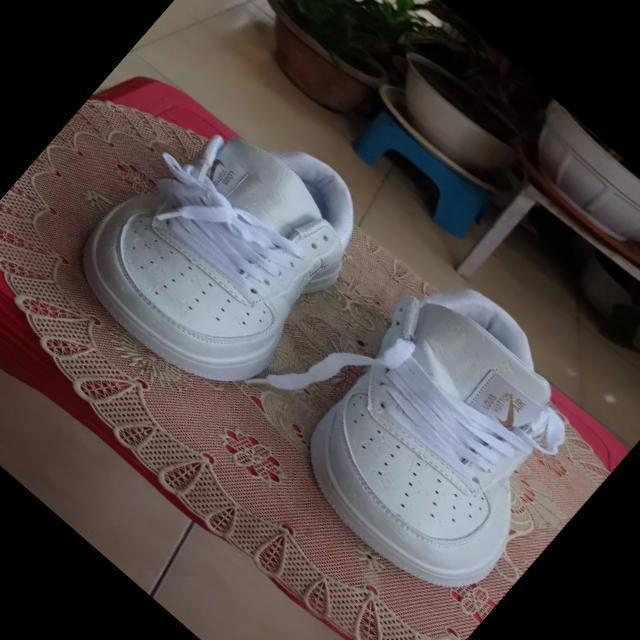nike fake air force: (258, 247, 638, 626), (49, 70, 400, 422)
